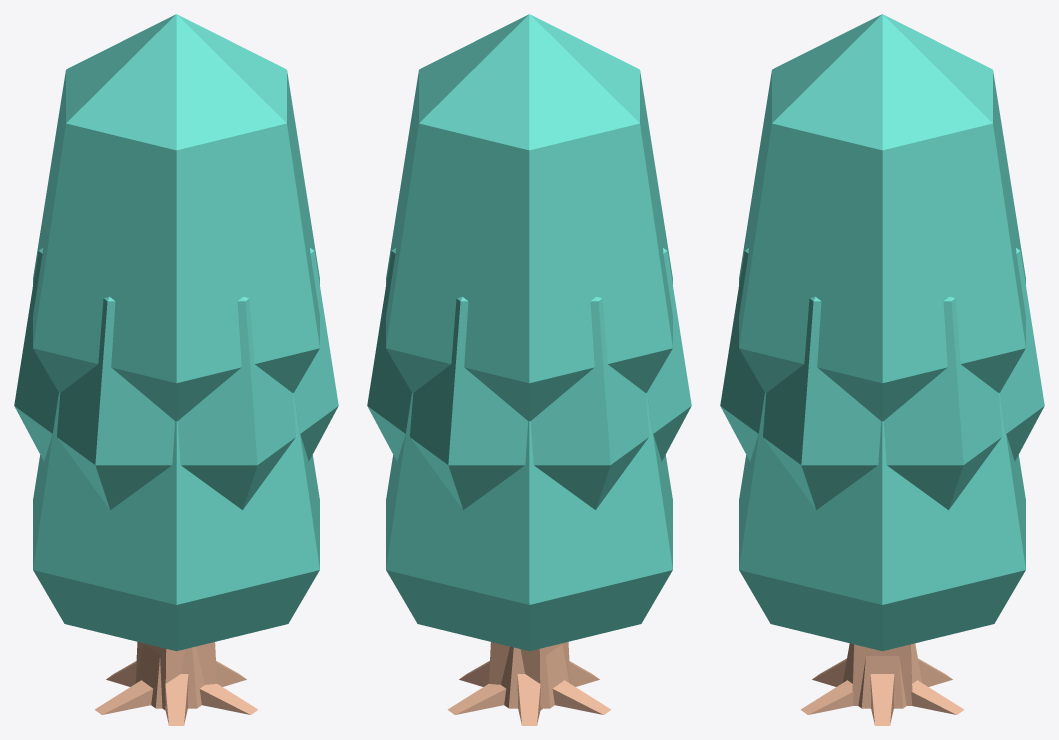
File: nature.gltf
3 renders of one model, left to right at view 1: azimuth 30°, elevation 25°; view 2: azimuth 150°, elevation 25°; view 3: azimuth 270°, elevation 25°, orthographic.
Parts seen in each view (by area): view 1: tree_default, tree_fat, tree_oak; view 2: tree_default, tree_fat, tree_oak; view 3: tree_default, tree_fat, tree_oak.
Boxes of the visible parts, x1,y1,x2,y2 form: tree_default: (33, 14, 319, 710); tree_fat: (33, 393, 319, 651); tree_oak: (14, 248, 338, 725); tree_default: (386, 14, 672, 710); tree_fat: (386, 393, 672, 651); tree_oak: (367, 248, 691, 725); tree_default: (739, 14, 1025, 705); tree_fat: (739, 393, 1025, 651); tree_oak: (720, 248, 1044, 725).
Size of the model in its own units: 0.755 by 1.71 by 0.7396.
